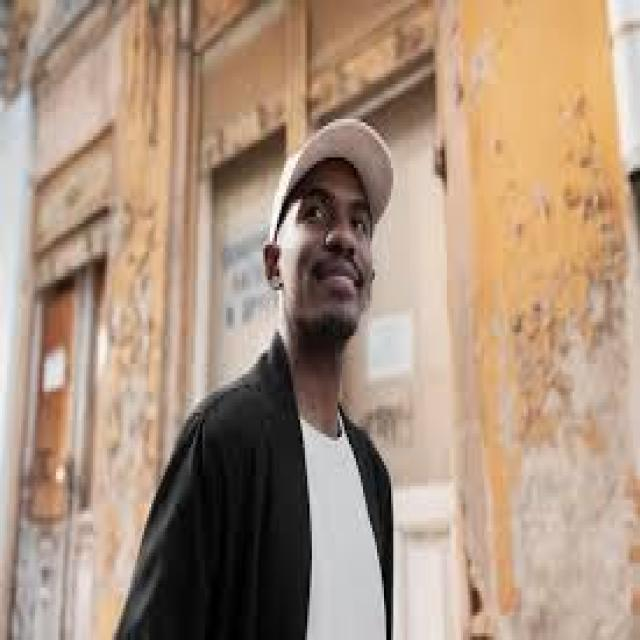cap: (266, 126, 394, 353)
